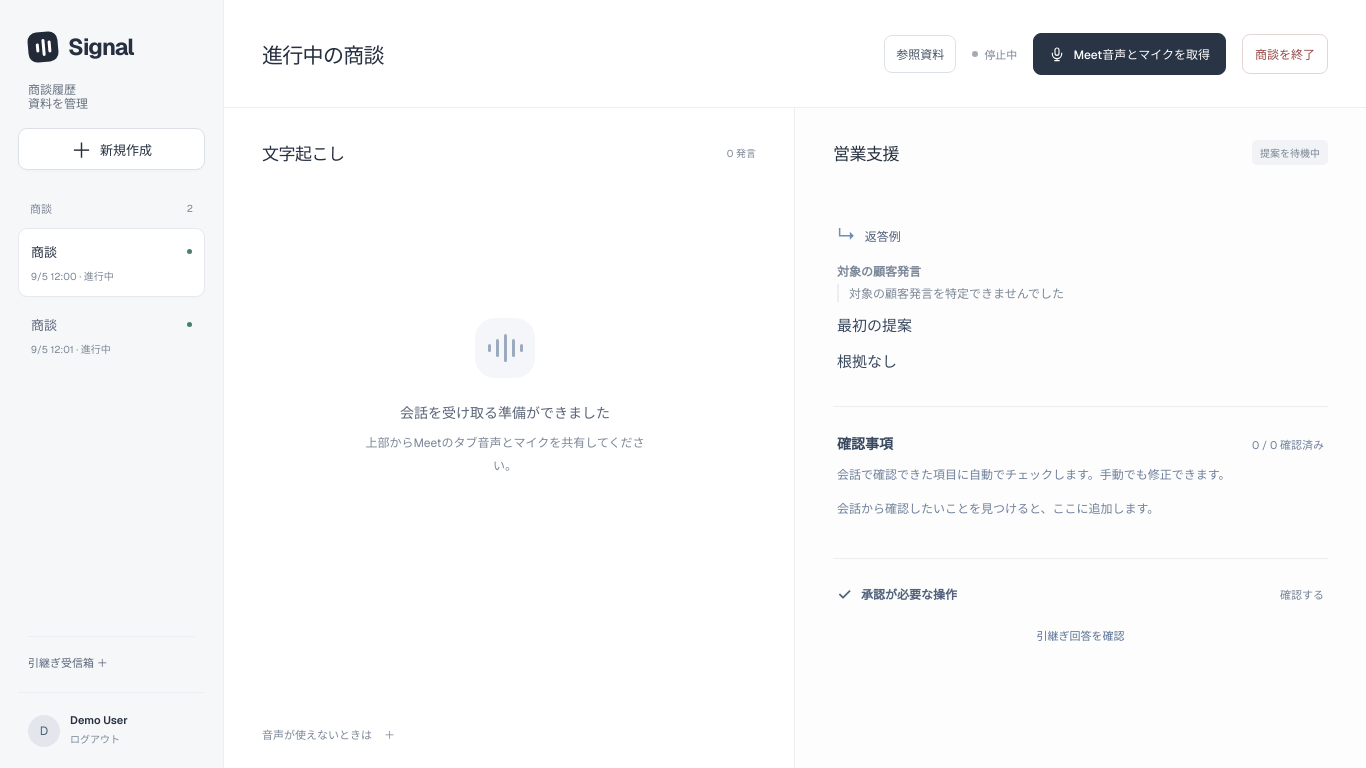
Test: authentication page › clears proposals and replaces the event stream when switching conversations
expect the heading "進行中の商談" is shown: met, box [262, 38, 384, 68]
expect the text "最初の提案" is shown: met, box [837, 316, 912, 335]
Click the button "商談 9/5 12:01 · 進行中" at (112, 336), box [18, 301, 205, 370]
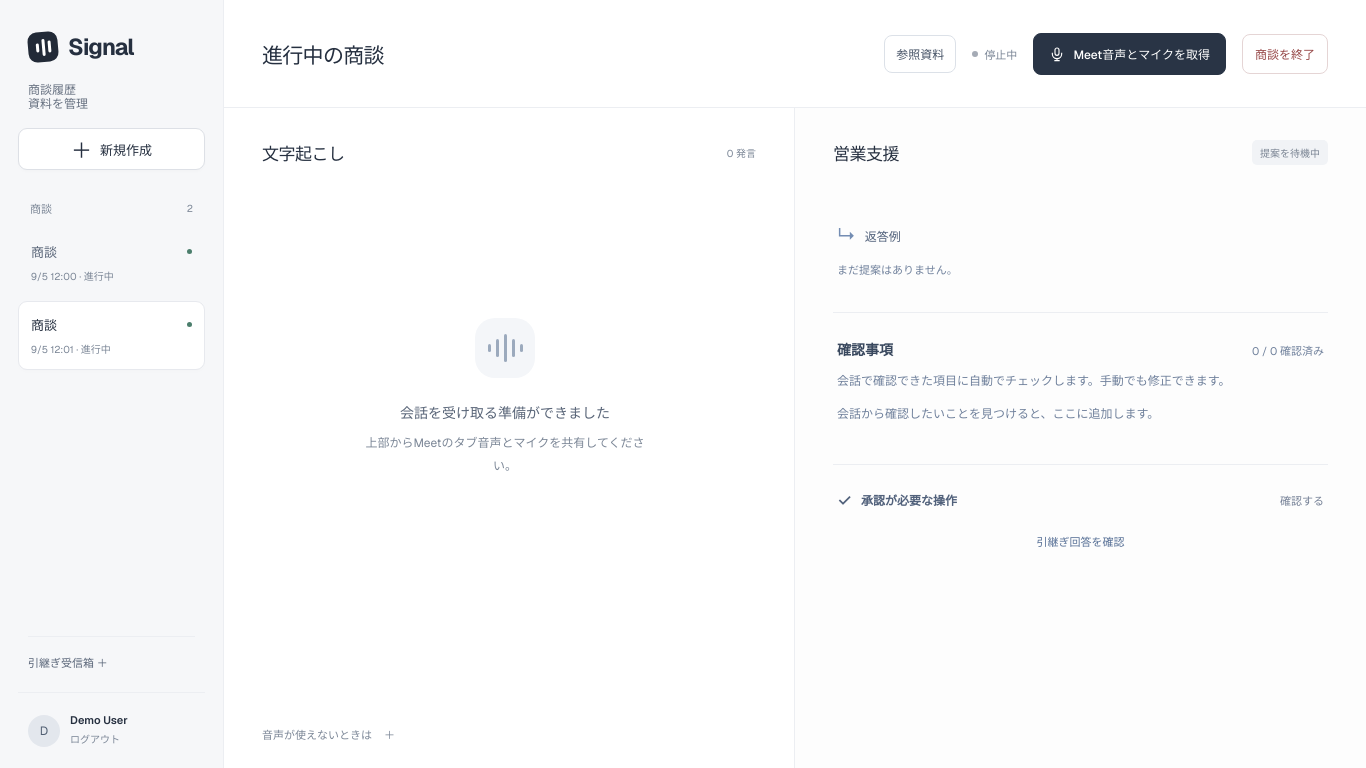
expect the text "最初の提案" is gone: met
